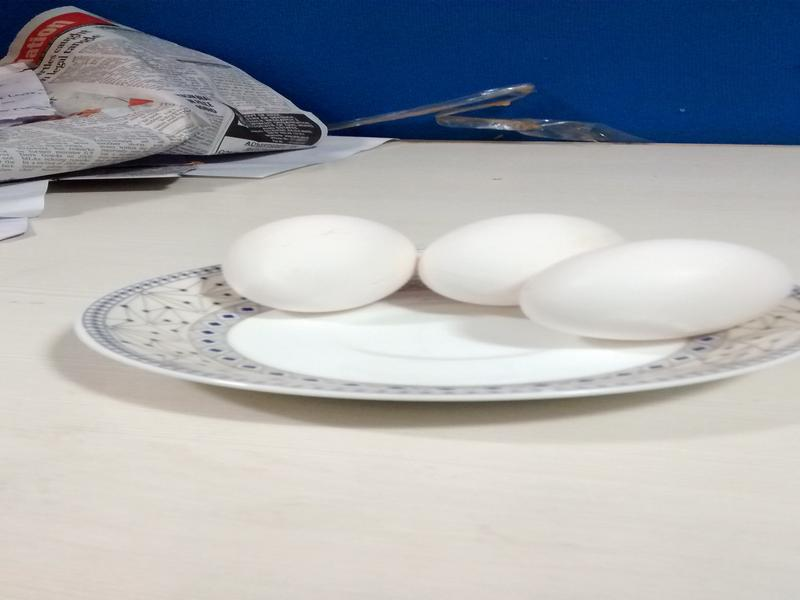egg: (224, 212, 417, 310)
